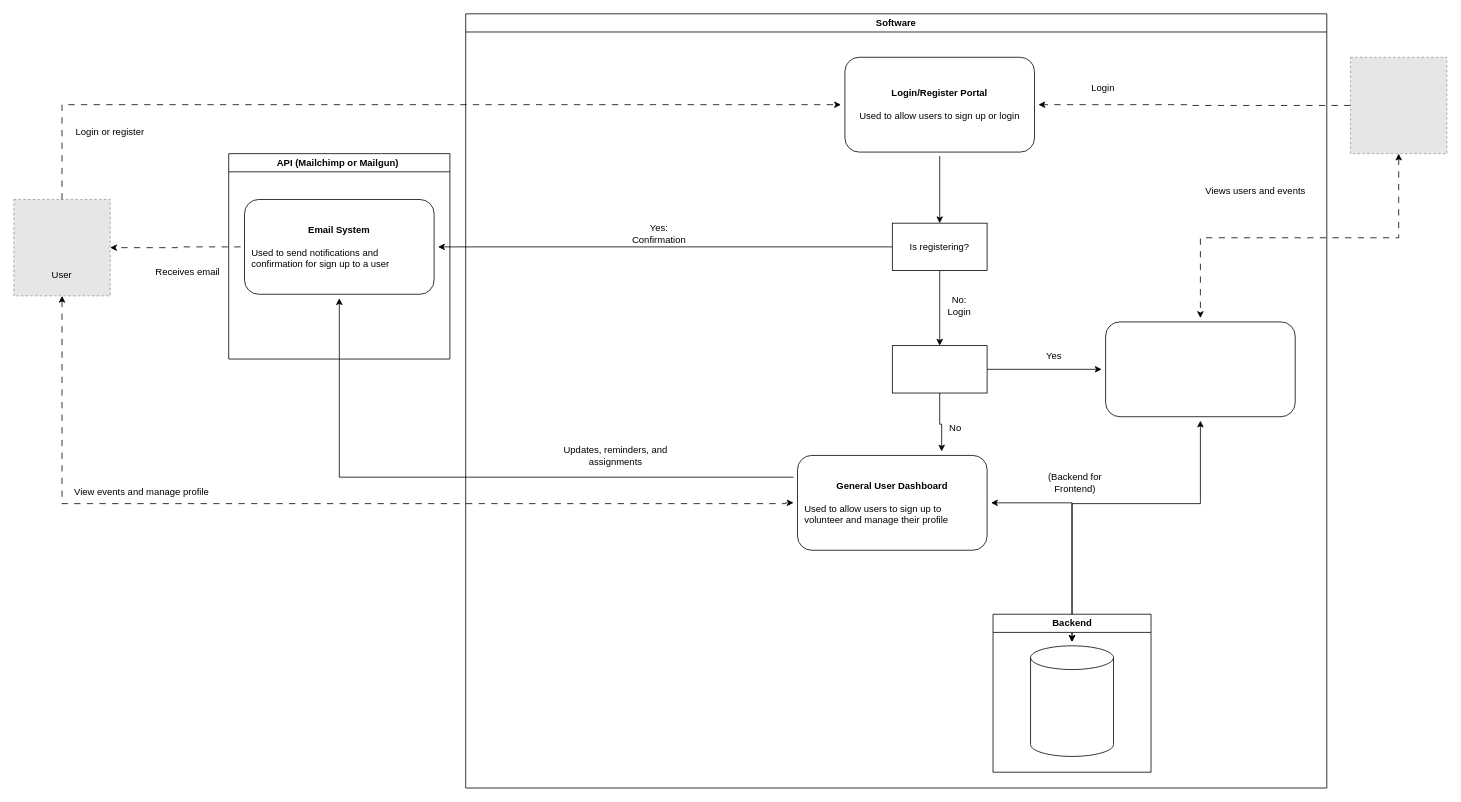
Some shapes in this 1461 by 802 pixel diagram are drawn without their labels. Grey dashed boxes stand in for pictures. The shapes that lost their labels are listed below. From the top down, each one's centre as x and y in pixels, then its label:
At (939,369): "Is admin?".
At (1200,369): "Admin Dashboard Used to allow admins to manage events and other users".
At (1072,700): "Database".
